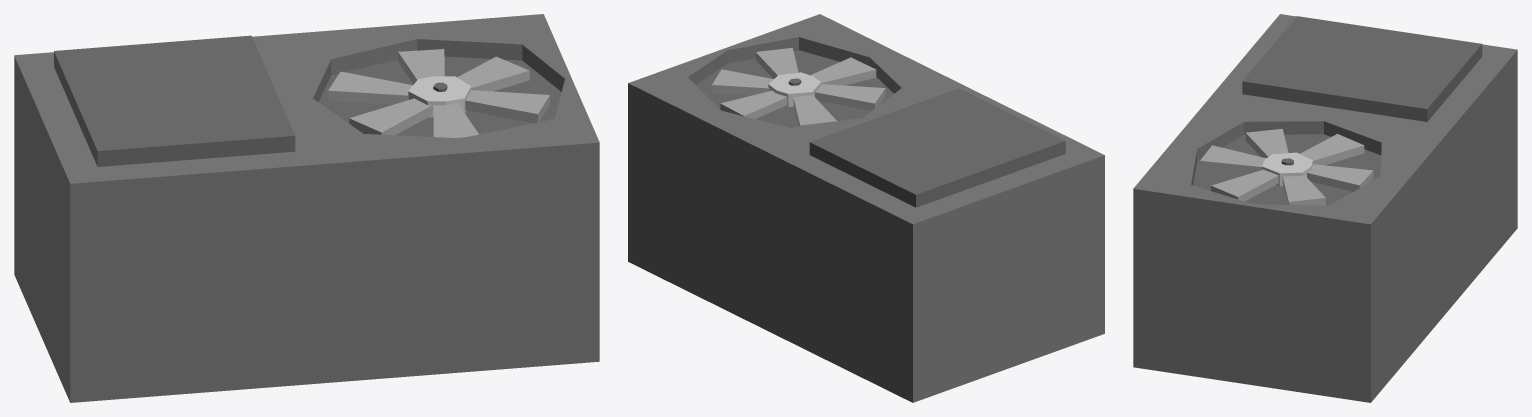
File: Terrace Object 2.fbx
The picture shows the model from 3 angles, left to right: view 1: azimuth 30°, elevation 25°; view 2: azimuth 150°, elevation 25°; view 3: azimuth 270°, elevation 25°; orthographic projection. The views are drawn at different scales.
Visible parts, largest first — view 1: Terrace Object 2; view 2: Terrace Object 2; view 3: Terrace Object 2.
Part boxes in pixels (<box>): Terrace Object 2: <box>14,14,599,402</box>; Terrace Object 2: <box>628,14,1104,402</box>; Terrace Object 2: <box>1133,14,1517,402</box>.
Size of the model in its own units: 356 by 275 by 151.
